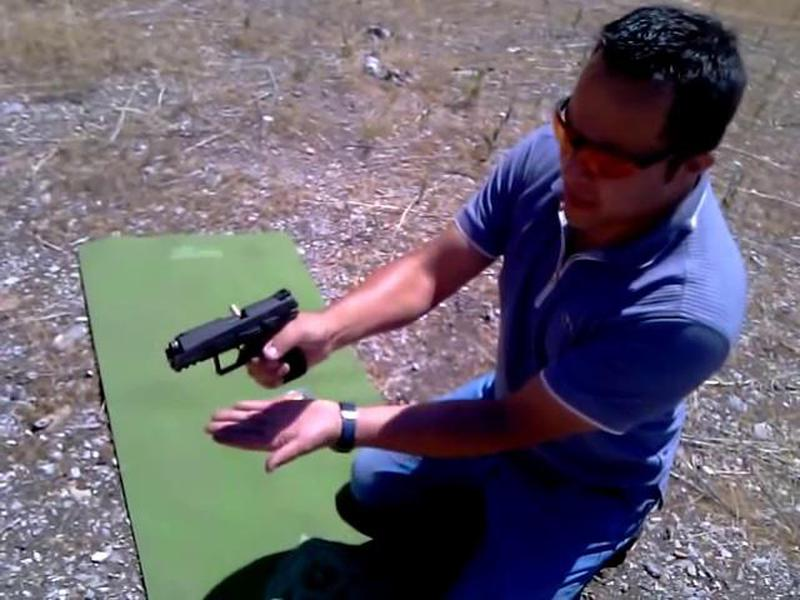Pistola: (145, 285, 326, 397)
